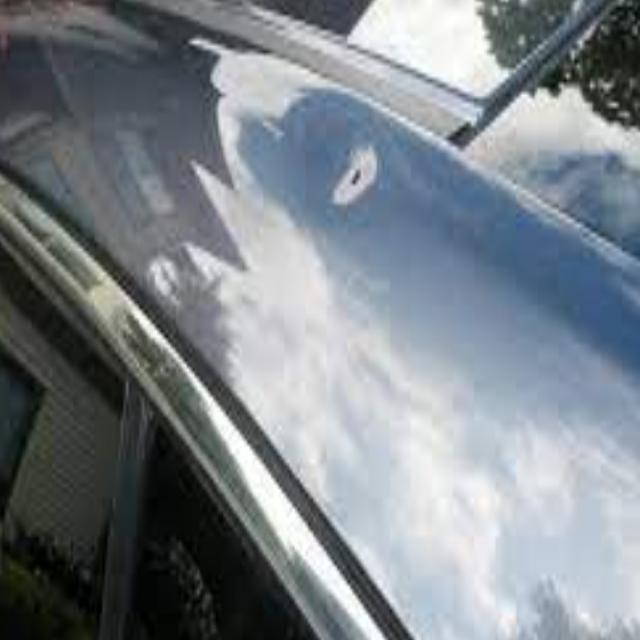dents: (147, 239, 229, 335)
